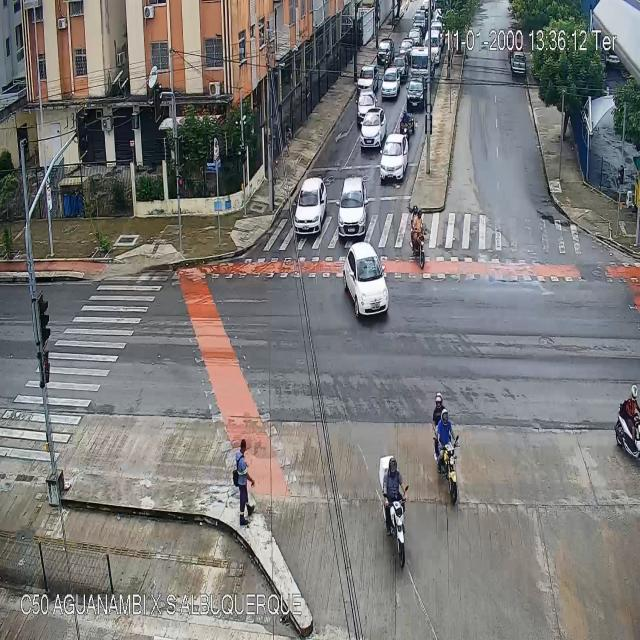Car: (343, 243, 388, 318), (336, 178, 367, 242), (294, 175, 326, 235), (380, 134, 407, 179), (362, 110, 386, 148), (406, 80, 426, 114), (356, 89, 376, 122), (381, 68, 400, 101), (425, 28, 441, 64), (356, 65, 376, 93), (378, 38, 394, 65), (393, 56, 408, 84), (399, 38, 412, 63), (408, 28, 423, 47), (512, 53, 524, 76), (413, 11, 426, 31)
Motorcycle: (603, 364, 640, 468), (383, 455, 409, 570), (433, 395, 460, 504), (410, 46, 435, 82), (412, 204, 426, 265), (399, 112, 414, 138), (384, 48, 389, 71)
